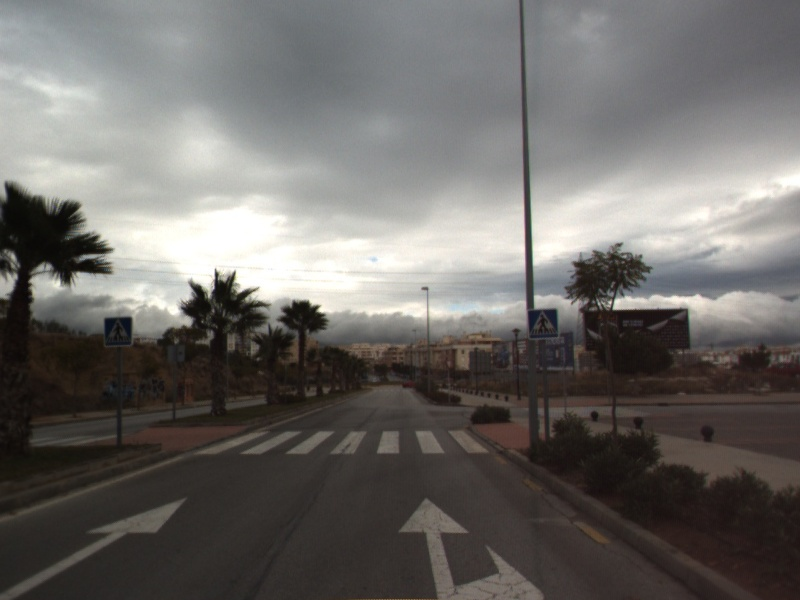STRAIGHT: (1, 495, 190, 600)
STRAIGHT_RIGHT: (396, 495, 547, 600)
